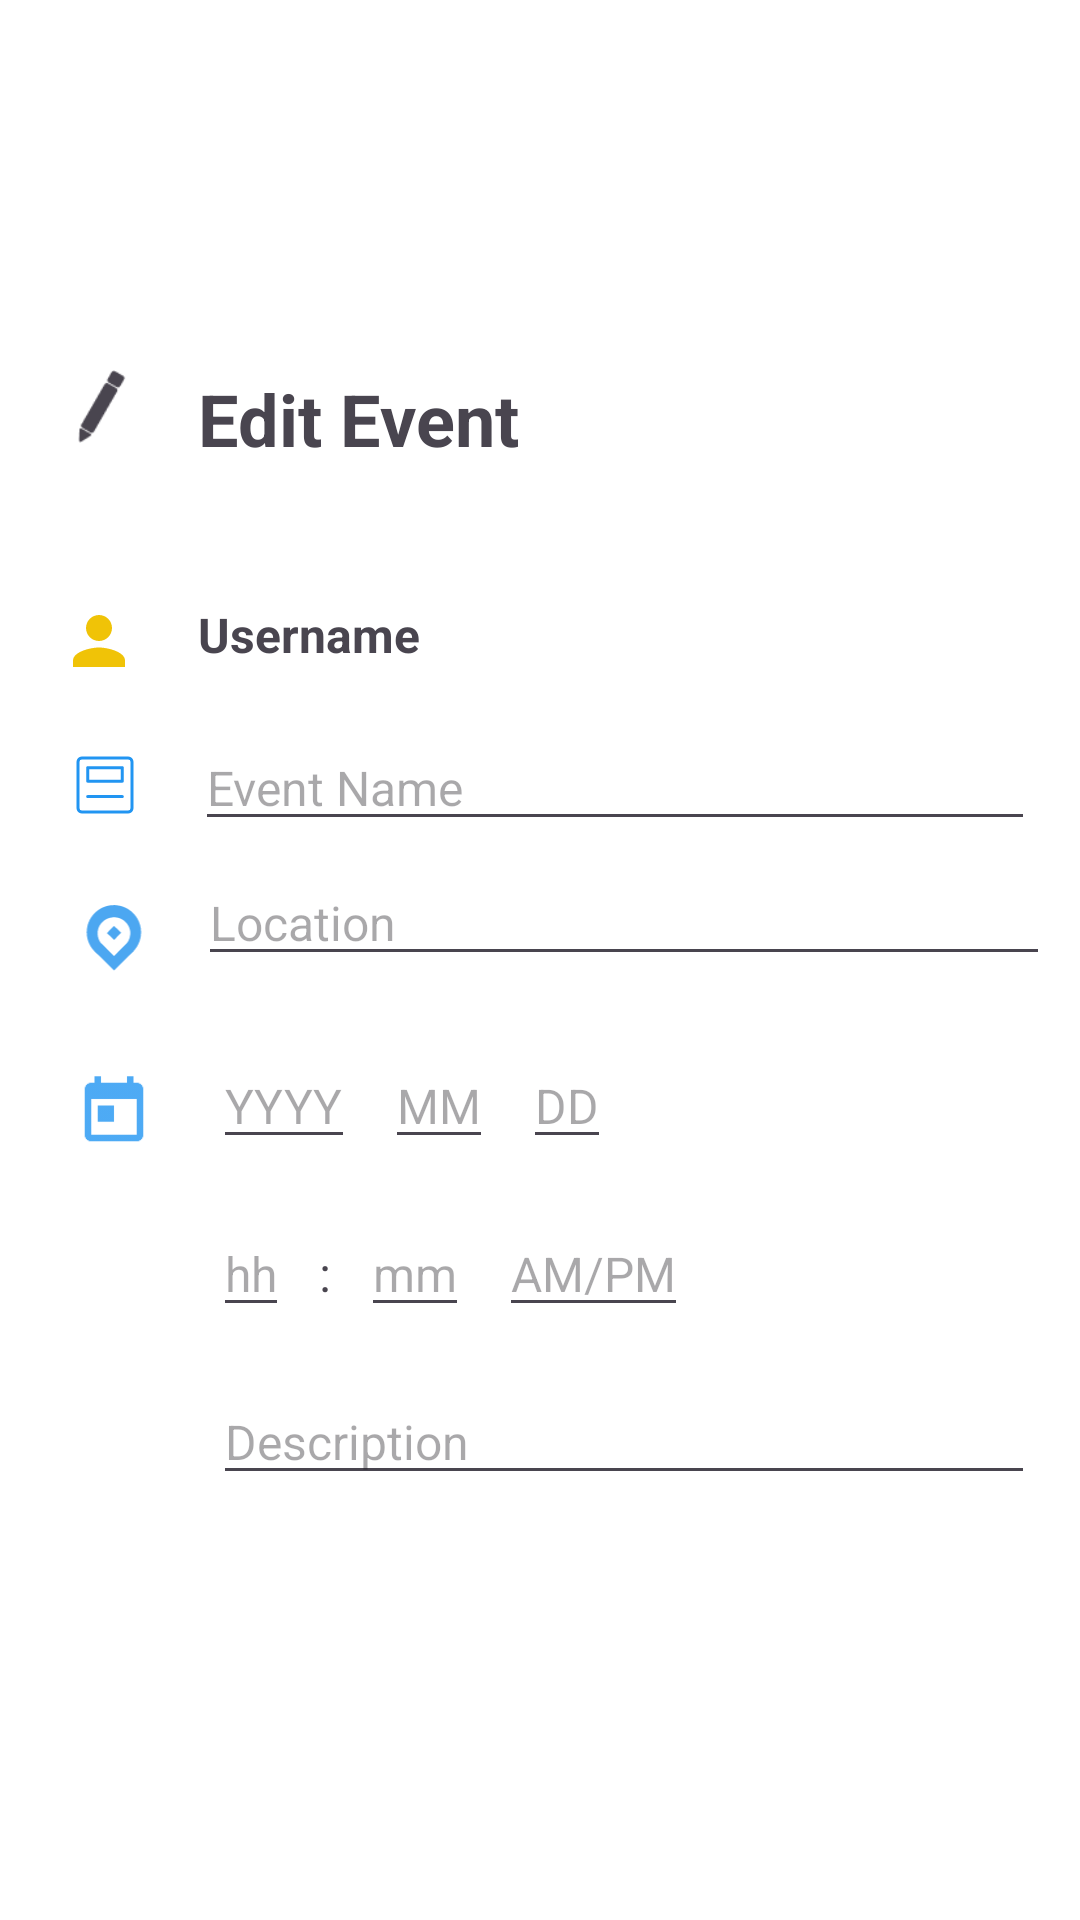

Named icons in this screenshot (1080×1920) and their bounding boxes, (x1, y1, x2, y2):
calendar: (84, 1076, 144, 1142)
pen: (78, 370, 125, 443)
person: (73, 615, 125, 667)
